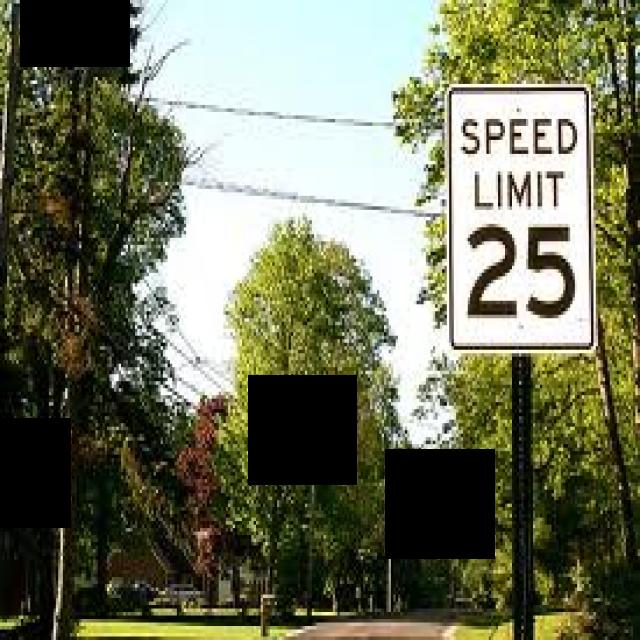regulatory: (446, 82, 597, 357)
